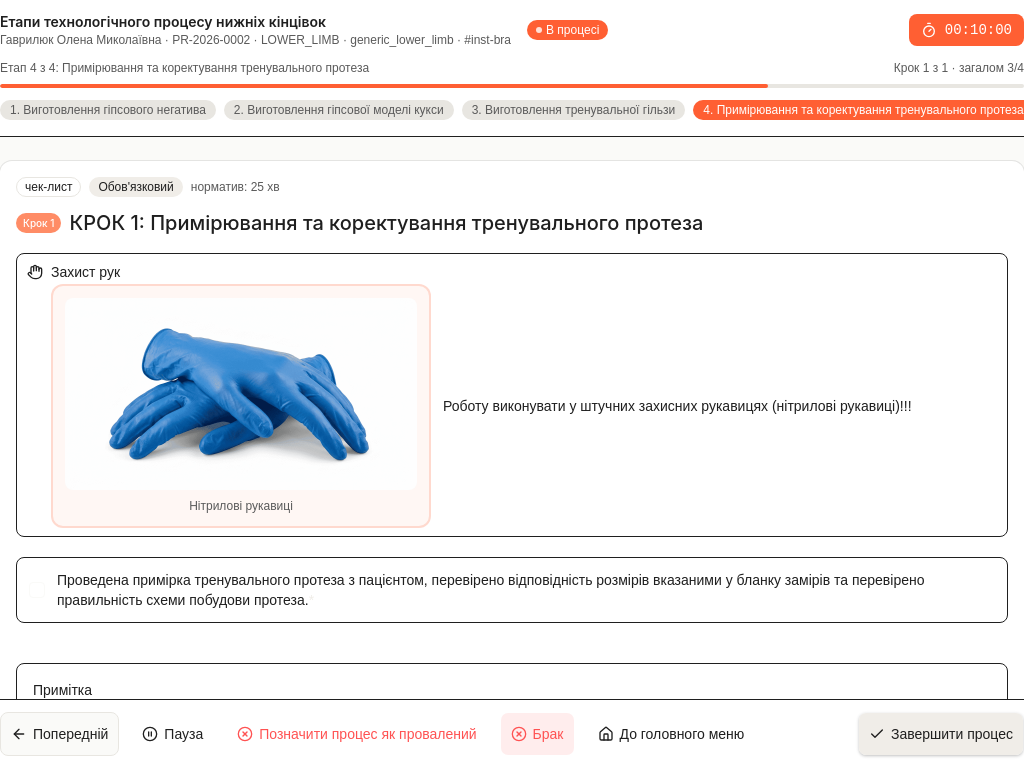
Test case: WizardScreen — Брак › Brak dialog shows 2 checkboxes + note
What coordinates should you click on to do the following:
click the button "Брак"
I would click on:
 (537, 734)
Its box is [500,712,574,756].
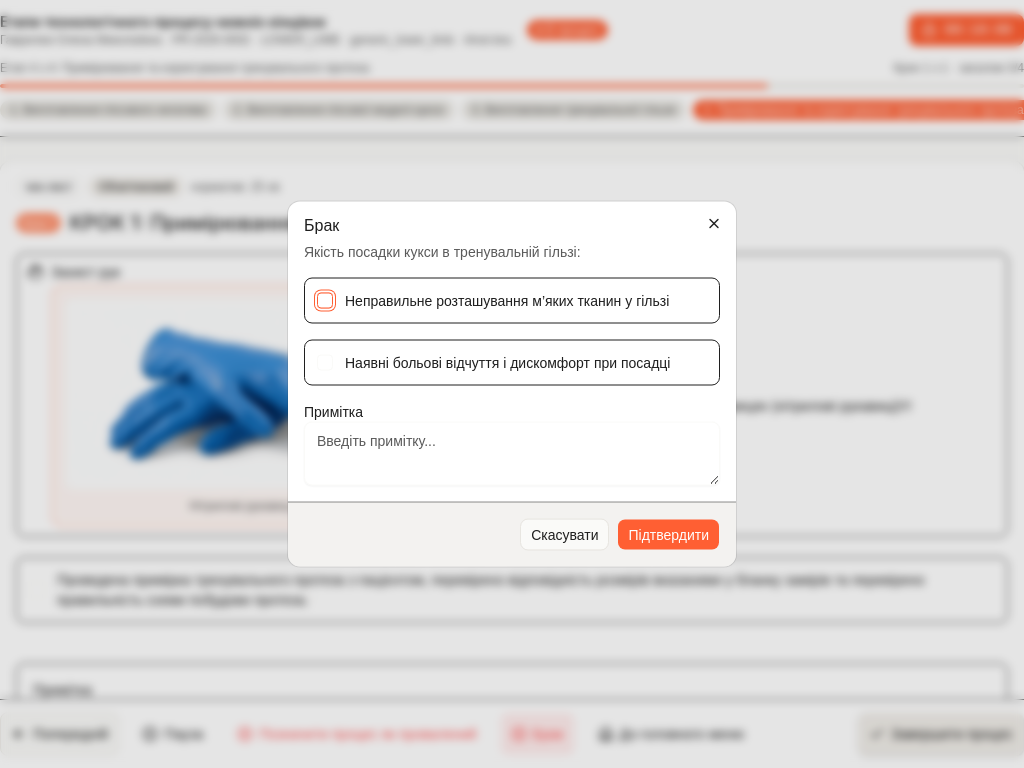
Expected: the text "Якість посадки кукси в тренувальній гільзі:" is shown, [304,244,581,260]
Expected: the text "Неправильне розташування м’яких тканин у гільзі" is shown, [345,290,669,310]
Expected: the text "Наявні больові відчуття і дискомфорт при посадці" is shown, [345,352,670,372]
